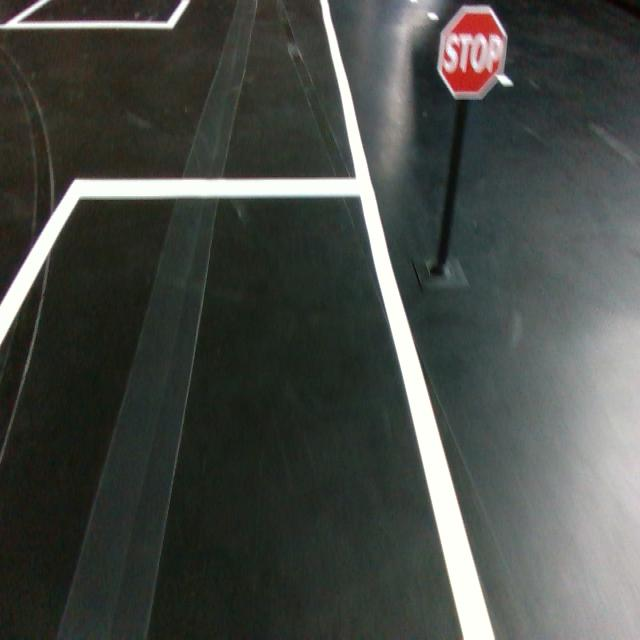stop-sign: (436, 5, 508, 100)
